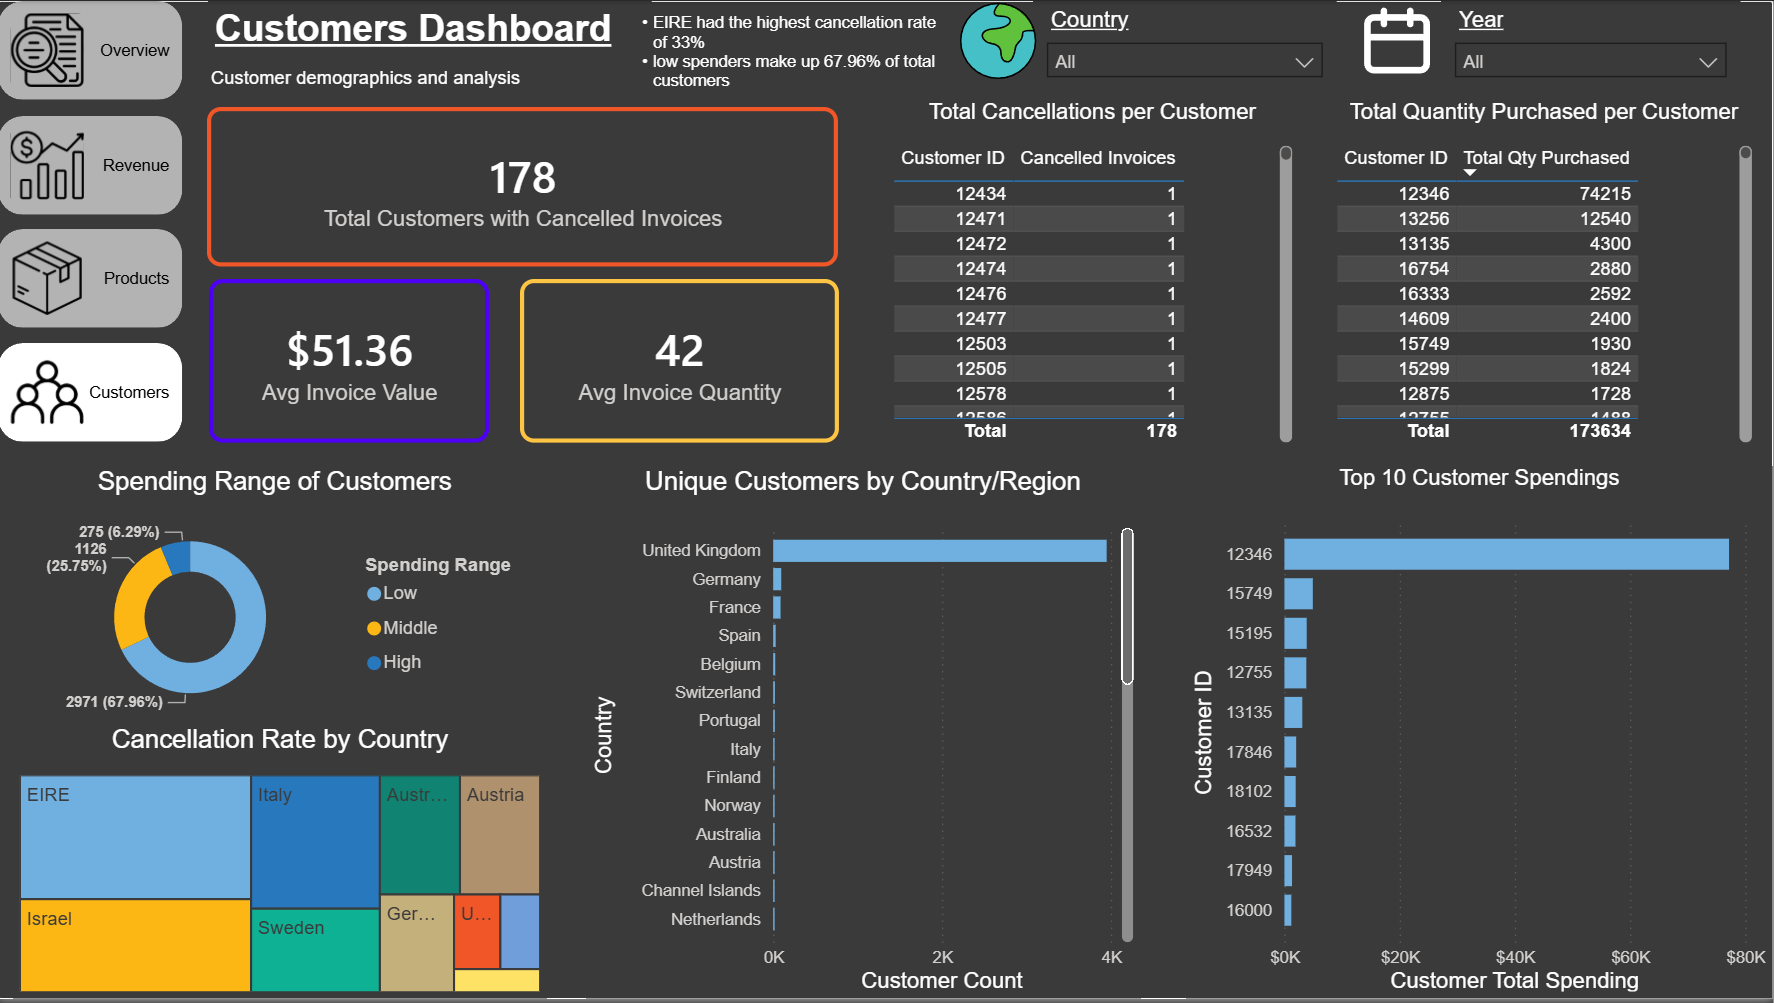

The page's visual inventory and layout, read from the dashboard file:
{"tool":"powerbi","page":{"name":"Customers","canvas":[1280,720],"ordinal":3},"visuals":[{"type":"actionButton","box":[0,0,132.8,71.4],"z":0,"group":"g1"},{"type":"textbox","box":[151.2,0,320,45.8],"z":0},{"type":"group","id":"g1","title":"Group 1","box":[0,0,132.8,318],"z":1000},{"type":"actionButton","box":[0,83,132.8,71.4],"z":1000,"group":"g1"},{"type":"actionButton","box":[0,164.4,132.8,71.4],"z":2000,"group":"g1"},{"type":"clusteredBarChart","title":"Unique Customers by Country/Region","fields":{"Category":["Customer.Country"],"Y":["Count(Customer.Customer ID)"]},"box":[424,335.3,399.5,384.4],"z":2000},{"type":"actionButton","box":[0,246.6,132.8,71.4],"z":3000,"group":"g1"},{"type":"barChart","title":"Top 10 Customer Spendings","fields":{"Category":["Customer.Customer ID"],"Y":["Customer.Customer Total Spending"]},"box":[856.7,335.3,423.3,384.4],"z":3000},{"type":"tableEx","title":"Total Quantity Purchased per Customer","fields":{"Values":["Customer.Customer ID","Customer.Total Qty Purchased"]},"box":[959.8,71.4,310.1,251.7],"z":4000},{"type":"tableEx","title":"Total Cancellations per Customer","fields":{"Values":["Customer.Customer ID","Invoice.Cancelled Invoices"]},"box":[640.4,71.4,297.8,251.7],"z":5000},{"type":"cardVisual","fields":{"Data":["Customer.Total Customers with Cancellations"]},"box":[151,76.5,455,114.8],"z":6000},{"type":"cardVisual","fields":{"Data":["Invoice.Avg Invoice Value"]},"box":[151.8,200.2,201.6,117.8],"z":7000},{"type":"cardVisual","fields":{"Data":["Invoice.Avg Invoice Quantity"]},"box":[376.6,200.5,230,117.9],"z":8000},{"type":"slicer","fields":{"Values":["Country.Country"]},"box":[746.4,0,218.6,56.9],"z":9000,"group":"g2"},{"type":"donutChart","title":"Spending Range of Customers","fields":{"Category":["Invoice.Spending Range"],"Y":["CountNonNull(Invoice.Spending Range)"]},"box":[6.9,335.4,384.6,186.2],"z":9000},{"type":"slicer","fields":{"Values":["Date.Year"]},"box":[1040.6,0,215.6,57],"z":10000,"group":"g3"},{"type":"treemap","title":"Cancellation Rate by Country","fields":{"Group":["Customer.Country"],"Values":["Invoice.Cancellation Rate"]},"box":[10.8,521.4,385.1,198.3],"z":10000},{"type":"textbox","box":[148.9,42.4,266.4,29.2],"z":11000},{"type":"group","id":"g2","title":"Group 2","box":[691.6,0,273.3,57],"z":11001},{"type":"group","id":"g3","title":"Group 3","box":[976.4,0,279.8,57],"z":11002},{"type":"textbox","box":[449.3,3.6,242.3,68.5],"z":11003},{"type":"image","box":[691.6,0,59.9,57],"z":12000,"group":"g2"},{"type":"image","box":[976.4,0,64.2,57],"z":12002,"group":"g3"}]}

Visuals, with their boxes in screenshot pixels (x1, y1, x2, y2), scaled from the page's 1280x720 canvas onto the 1774x1003 screenshot:
actionButton: select_region(0, 0, 184, 99)
textbox: select_region(210, 0, 653, 64)
"Group 1" group: select_region(0, 0, 184, 443)
actionButton: select_region(0, 116, 184, 215)
actionButton: select_region(0, 229, 184, 328)
"Unique Customers by Country/Region" clusteredBarChart: select_region(588, 467, 1141, 1002)
actionButton: select_region(0, 344, 184, 443)
"Top 10 Customer Spendings" barChart: select_region(1187, 467, 1773, 1002)
"Total Quantity Purchased per Customer" tableEx: select_region(1330, 99, 1760, 450)
"Total Cancellations per Customer" tableEx: select_region(888, 99, 1300, 450)
cardVisual - Customer.Total Customers with Cancellations: select_region(209, 107, 840, 266)
cardVisual - Invoice.Avg Invoice Value: select_region(210, 279, 490, 443)
cardVisual - Invoice.Avg Invoice Quantity: select_region(522, 279, 841, 444)
slicer - Country.Country: select_region(1034, 0, 1337, 79)
"Spending Range of Customers" donutChart: select_region(10, 467, 543, 727)
slicer - Date.Year: select_region(1442, 0, 1741, 79)
"Cancellation Rate by Country" treemap: select_region(15, 726, 549, 1002)
textbox: select_region(206, 59, 576, 100)
"Group 2" group: select_region(959, 0, 1337, 79)
"Group 3" group: select_region(1353, 0, 1741, 79)
textbox: select_region(623, 5, 959, 100)
image: select_region(959, 0, 1042, 79)
image: select_region(1353, 0, 1442, 79)
